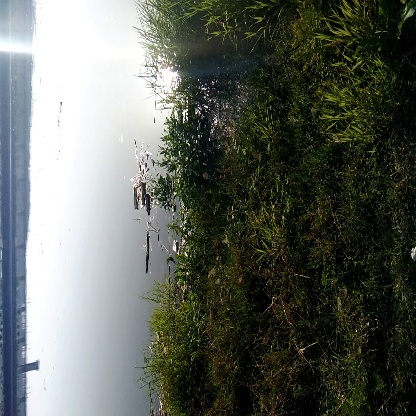grass: (316, 10, 399, 150)
